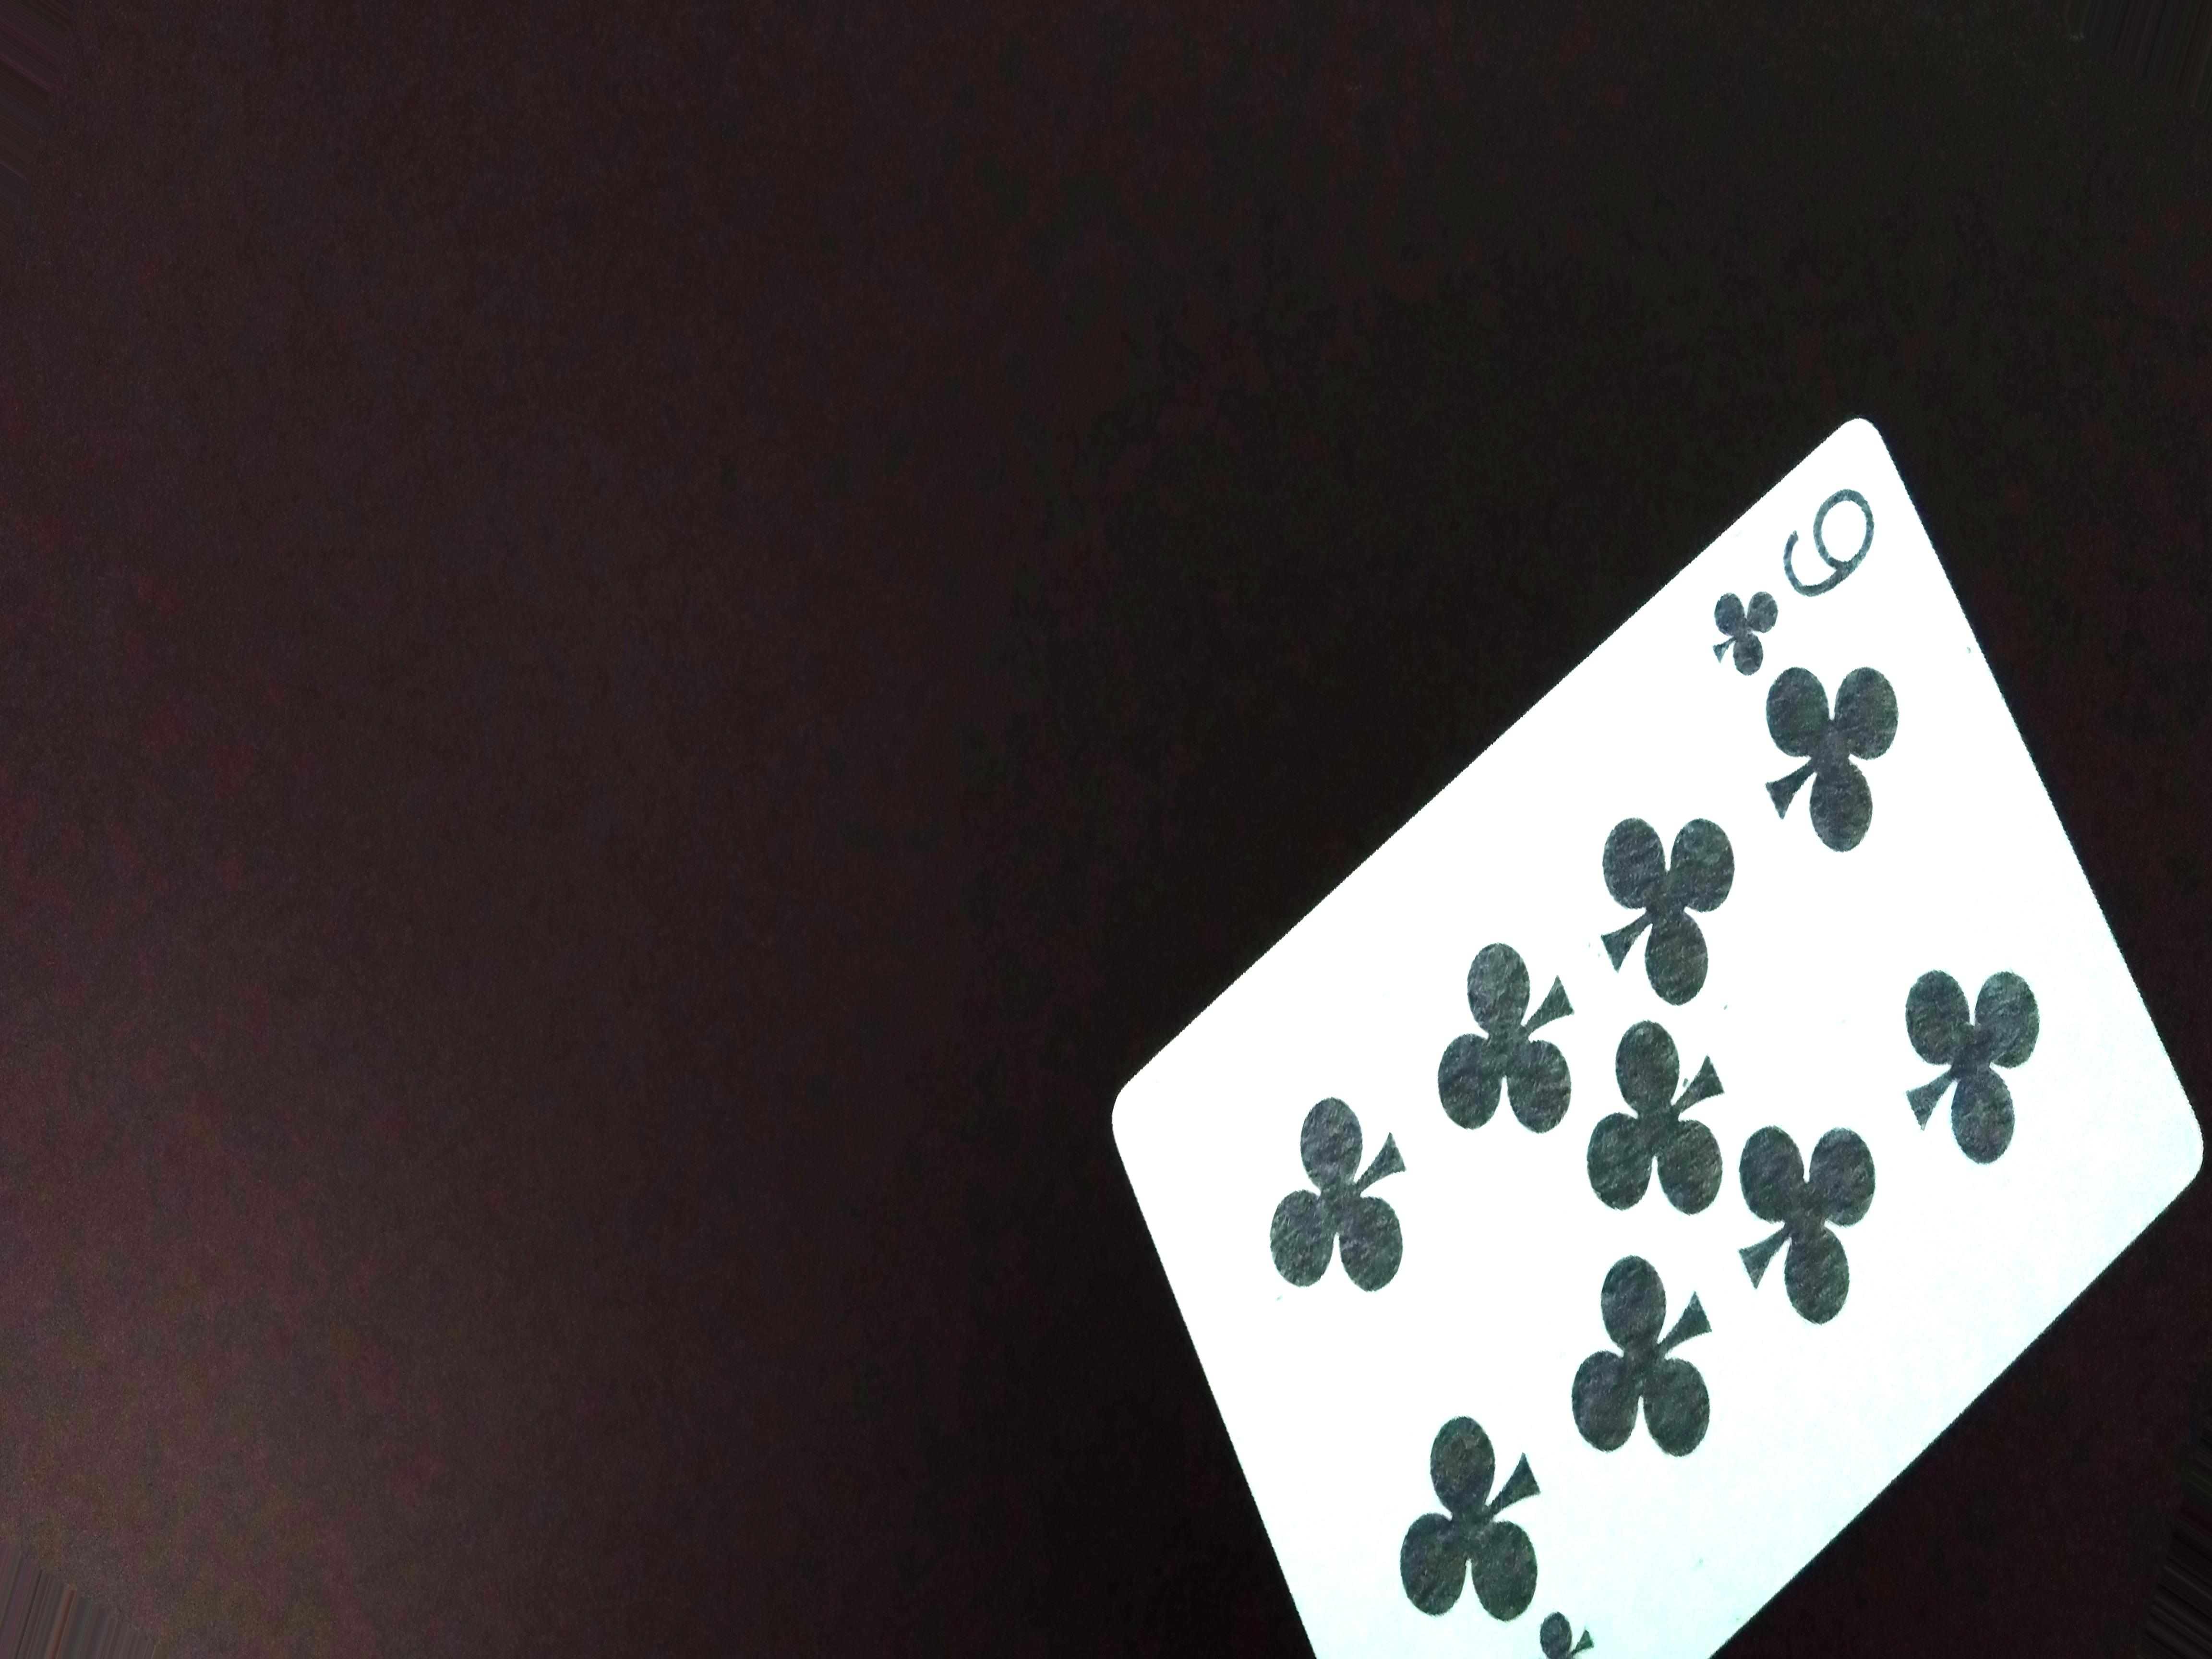9C: (1700, 472, 1916, 685)
